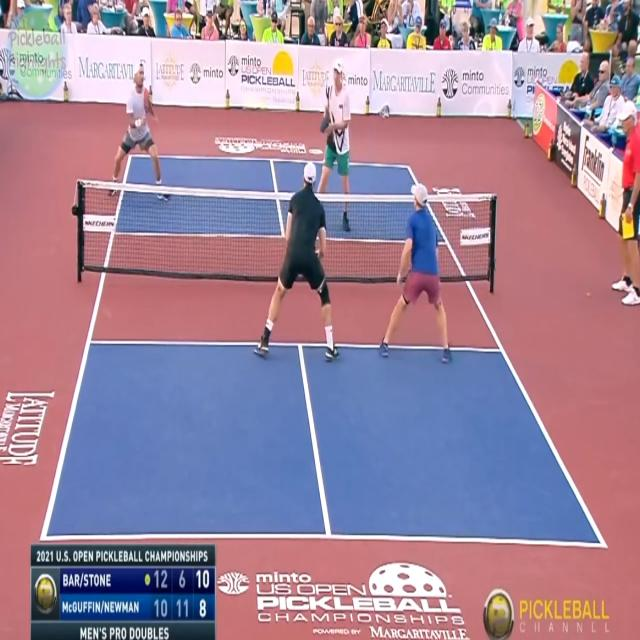Court: (44, 156, 604, 544)
